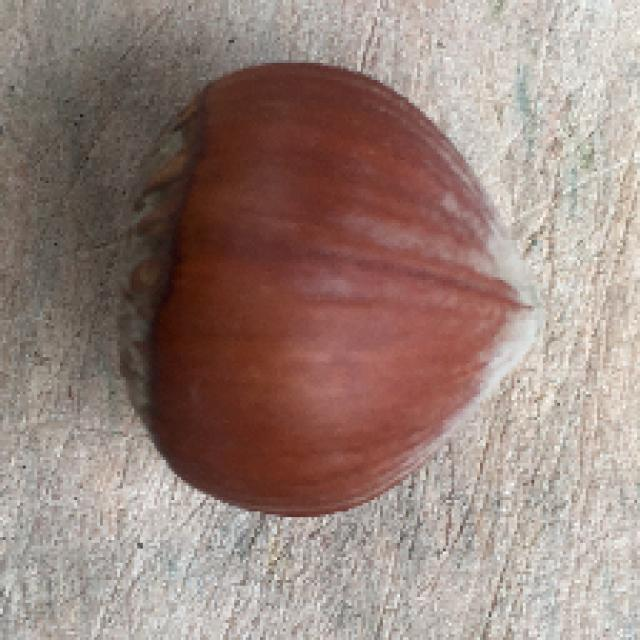qualityHazelnut: (105, 59, 552, 522)
